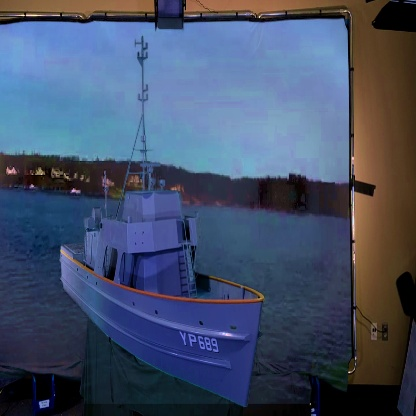YP689: (61, 35, 264, 404)
